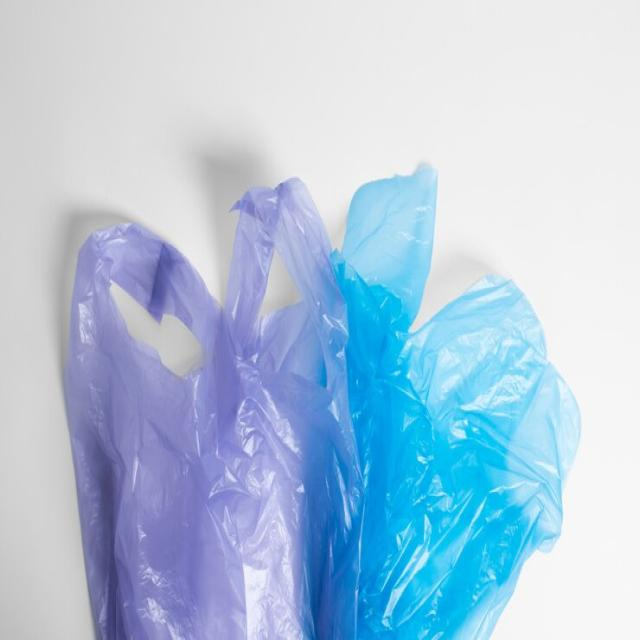plastic_bag: (17, 156, 586, 639)
